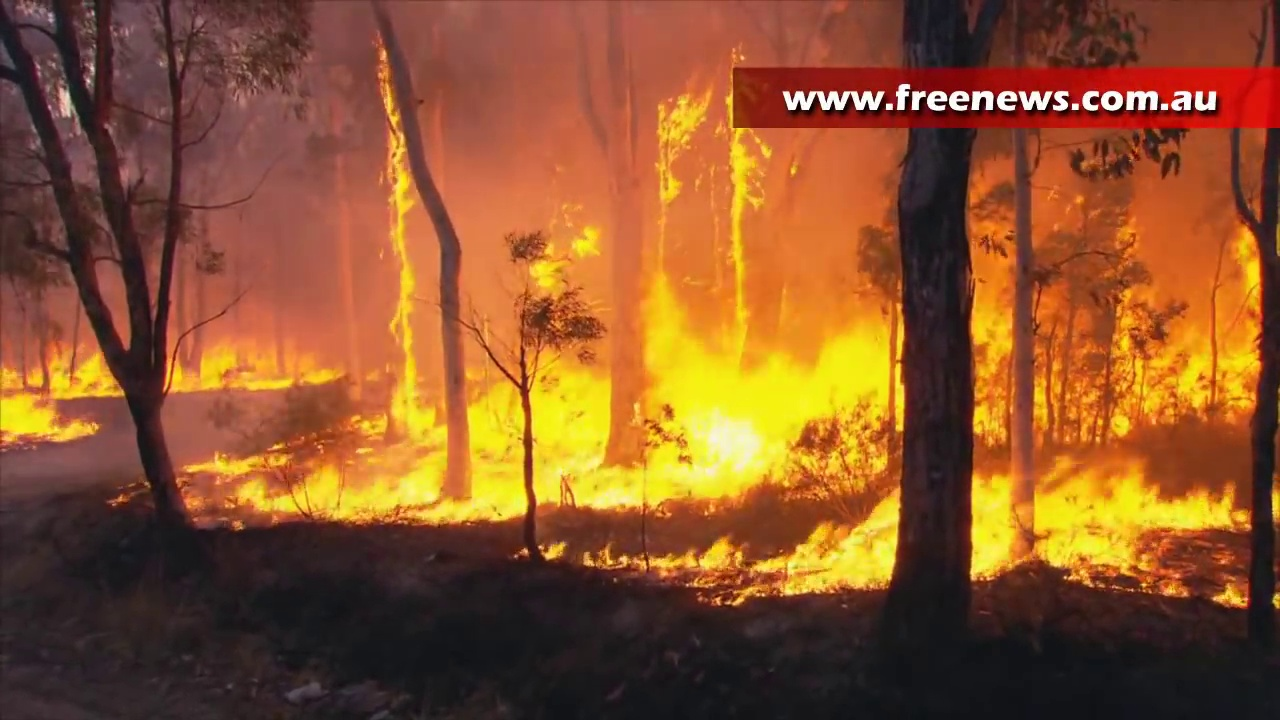fire: (238, 329, 749, 519), (760, 456, 1252, 598), (981, 238, 1261, 438), (752, 349, 902, 478), (388, 102, 419, 433), (1, 351, 113, 442), (657, 85, 707, 198), (589, 539, 744, 573), (528, 219, 599, 286), (166, 353, 290, 390), (733, 133, 746, 311), (541, 542, 564, 560)
